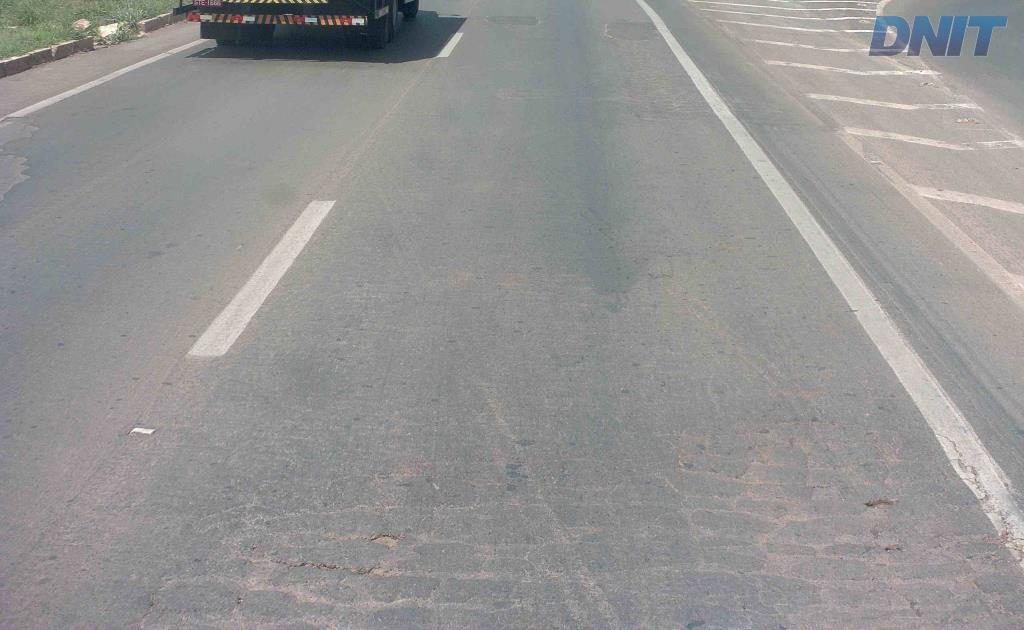pothole: (366, 528, 414, 551), (859, 490, 902, 514)
